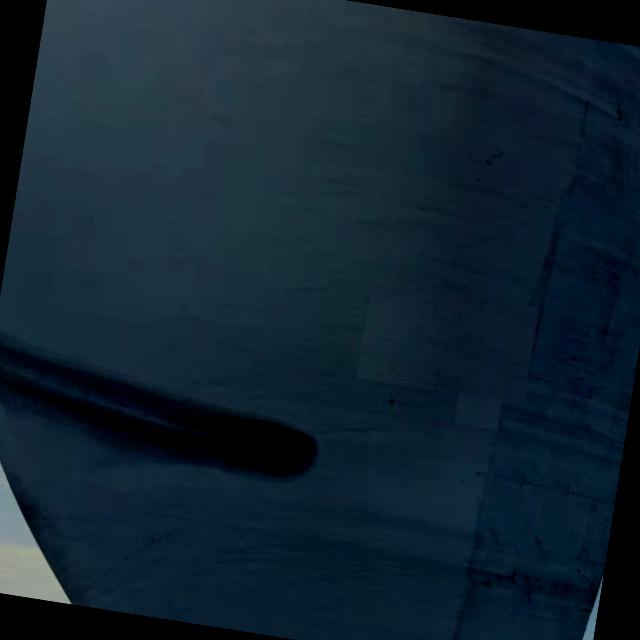crack: (11, 346, 340, 501)
